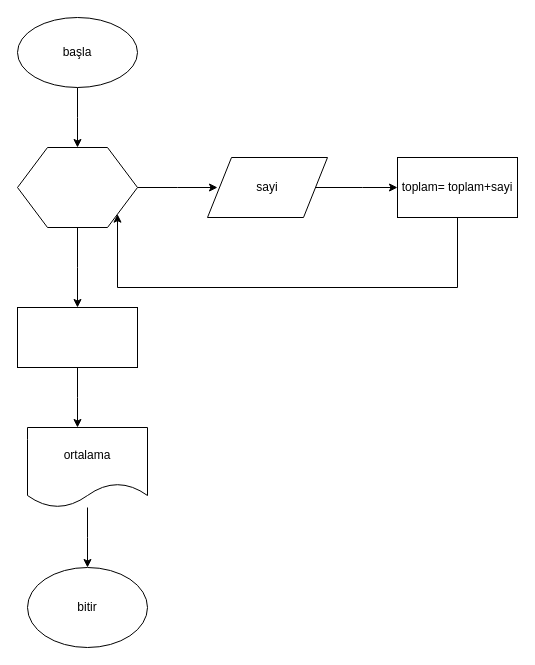
Some shapes in this 535 by 665 pixel diagram are drawn without their labels. The centre of each missing label's shape, as x and y in pixels:
"i=1,5,1" belongs at [77,187].
"ortalama=toplam/5" belongs at [77,337].
